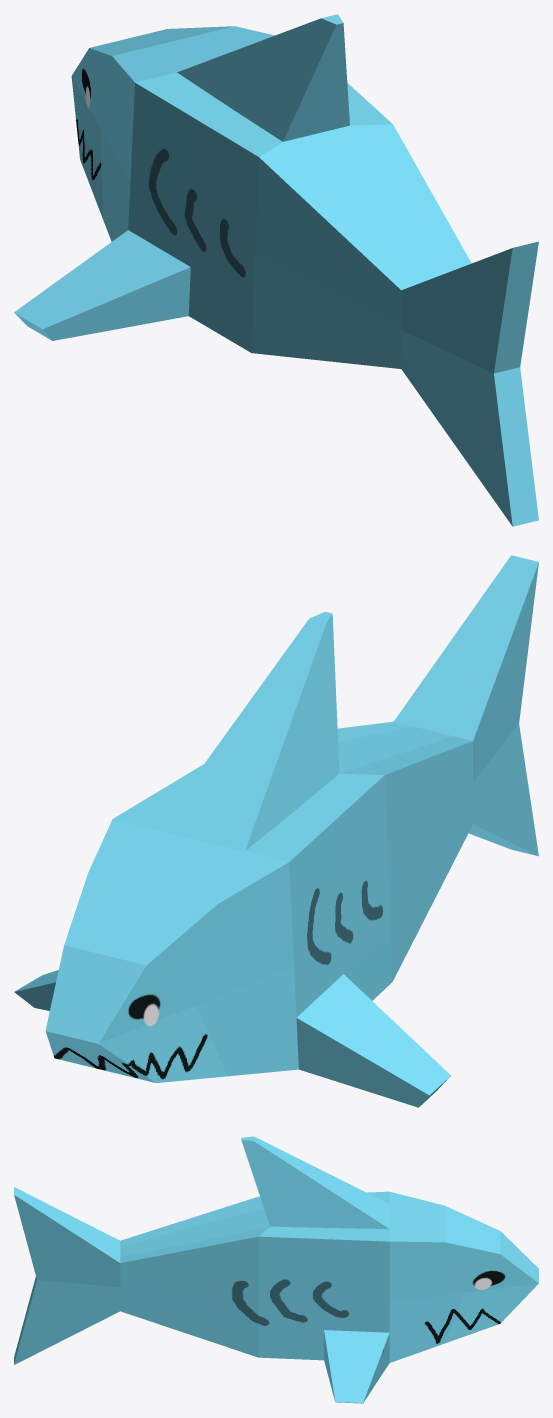
Rendered from calliafish2.glb.
The picture shows the model from 3 angles, top to bottom: view 1: azimuth 30°, elevation 25°; view 2: azimuth 150°, elevation 25°; view 3: azimuth 270°, elevation 25°; orthographic projection. The views are drawn at different scales.
Visible parts, largest first — view 1: Cube; view 2: Cube; view 3: Cube.
Boxes of the visible parts, x1=… form: Cube: x1=14, y1=14, x2=538, y2=526; Cube: x1=14, y1=555, x2=538, y2=1107; Cube: x1=14, y1=1136, x2=538, y2=1403.
Size of the model in its own units: 4.41 by 3.74 by 8.01.
Materials: 1 (1 with a texture image).
